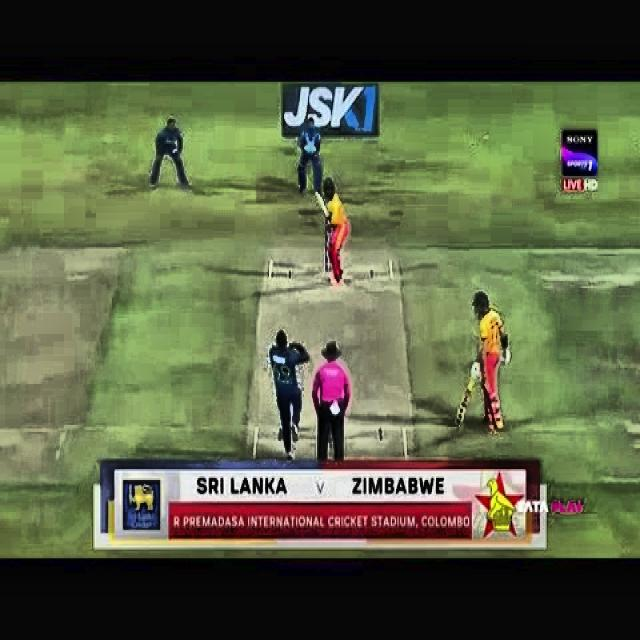Left-stump: (325, 230, 328, 270)
Middle-stump: (329, 259, 332, 269)
